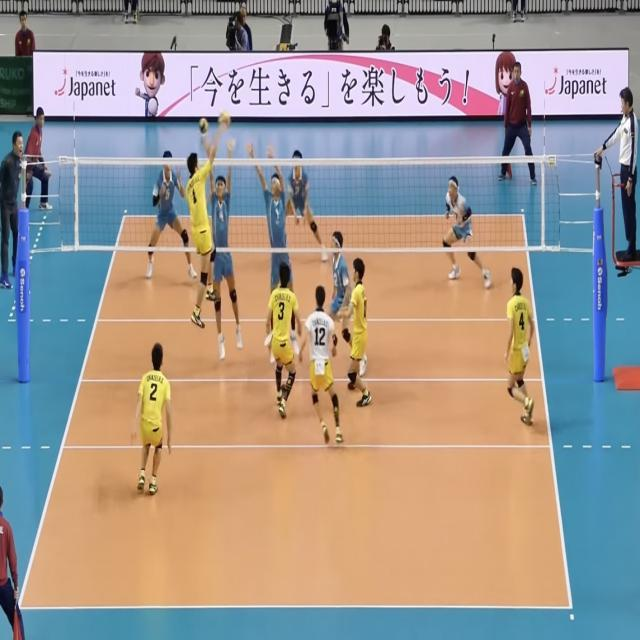spike: (181, 106, 232, 328)
